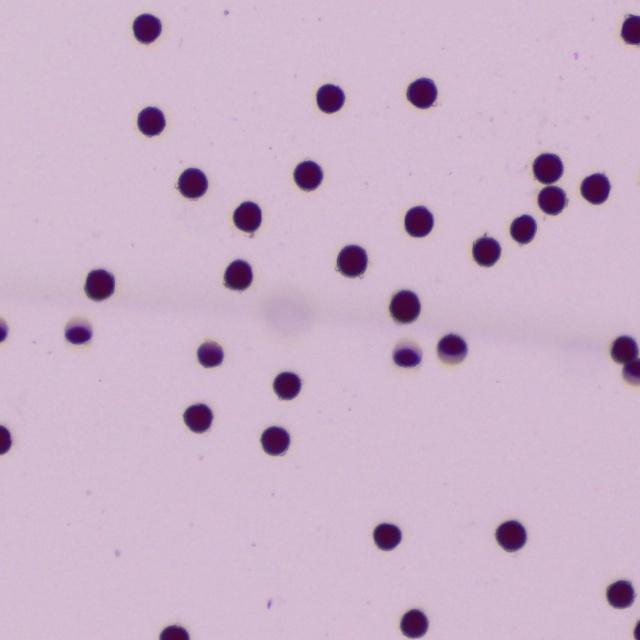viable: (176, 168, 207, 199), (390, 290, 420, 322), (407, 78, 437, 108), (496, 521, 526, 551), (85, 269, 114, 300), (533, 153, 562, 182), (581, 174, 610, 203), (233, 202, 261, 232), (405, 206, 433, 236), (338, 245, 366, 275), (133, 14, 161, 43), (137, 107, 165, 136), (316, 84, 344, 113), (261, 426, 289, 455), (183, 404, 212, 432), (225, 260, 252, 290), (400, 609, 428, 637), (438, 334, 466, 362), (294, 161, 321, 190), (473, 237, 500, 266), (538, 186, 565, 214), (607, 580, 634, 608), (510, 215, 536, 244), (273, 372, 300, 399), (373, 523, 401, 549), (611, 336, 637, 363), (197, 342, 223, 366), (393, 346, 421, 366), (620, 16, 639, 45), (66, 326, 91, 343), (159, 625, 189, 639), (624, 358, 639, 385), (0, 425, 11, 454), (0, 318, 7, 342), (634, 620, 639, 639)
